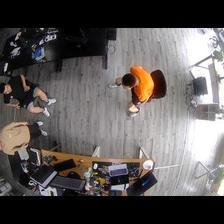normal: (1, 73, 60, 121), (110, 64, 158, 113)
